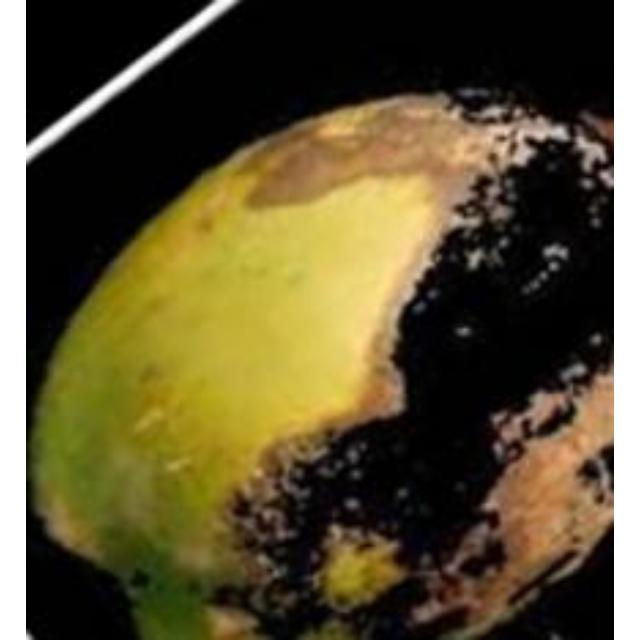damaged: (31, 88, 611, 637)
